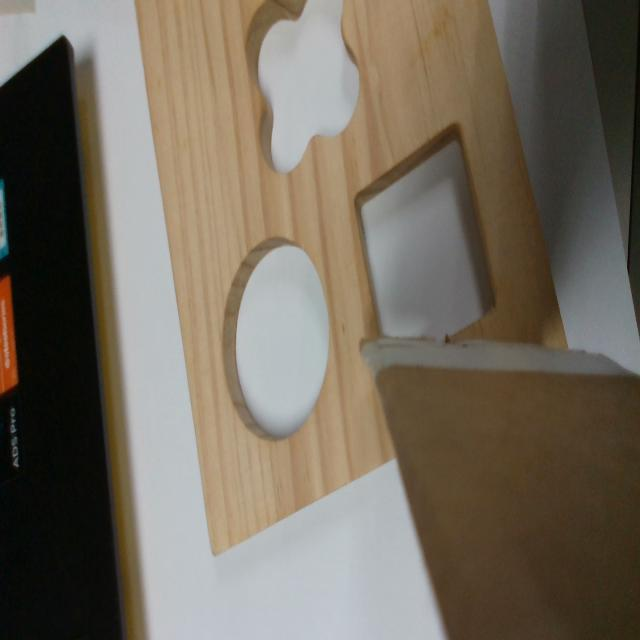circle: (221, 235, 331, 441)
flower: (246, 1, 364, 172)
square: (354, 117, 498, 339)
